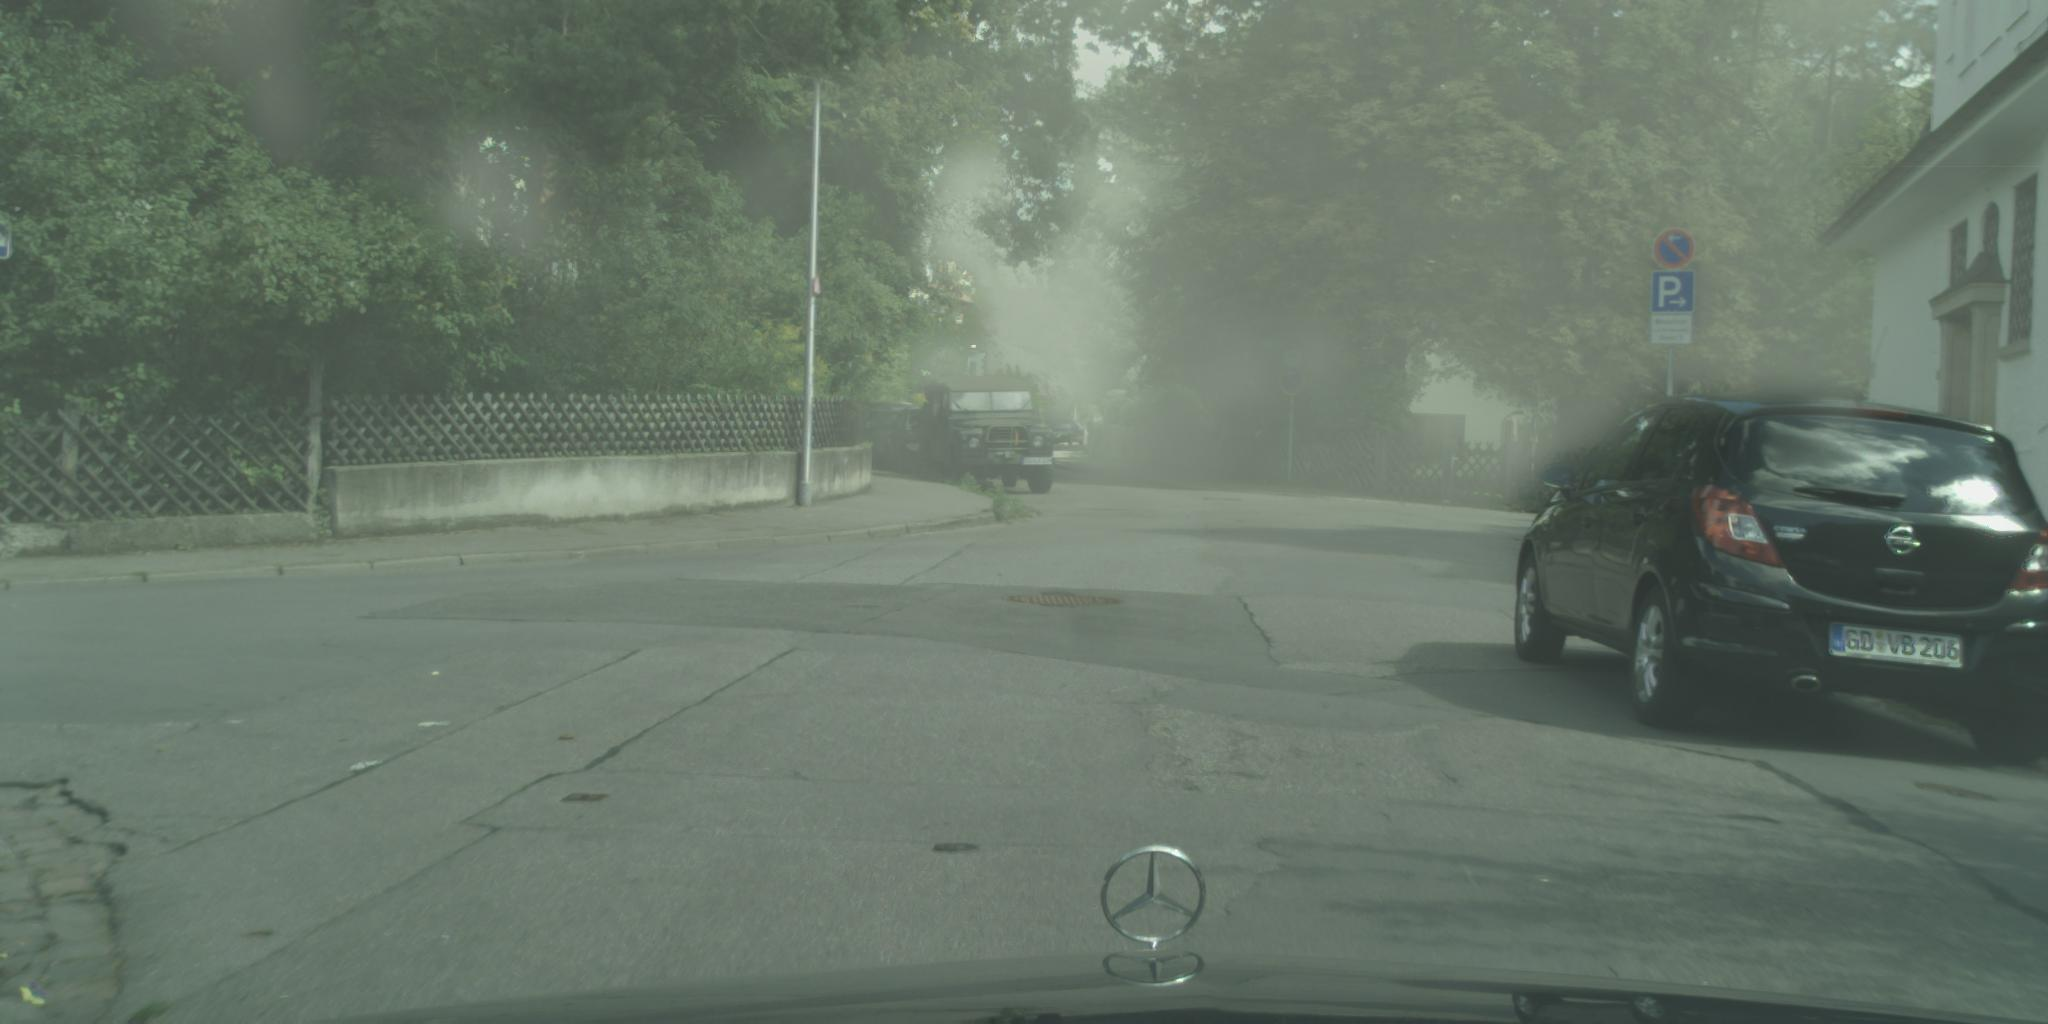car: (1516, 392, 2048, 768), (914, 376, 1055, 495), (859, 404, 916, 475), (888, 409, 936, 485), (1045, 421, 1085, 447)
